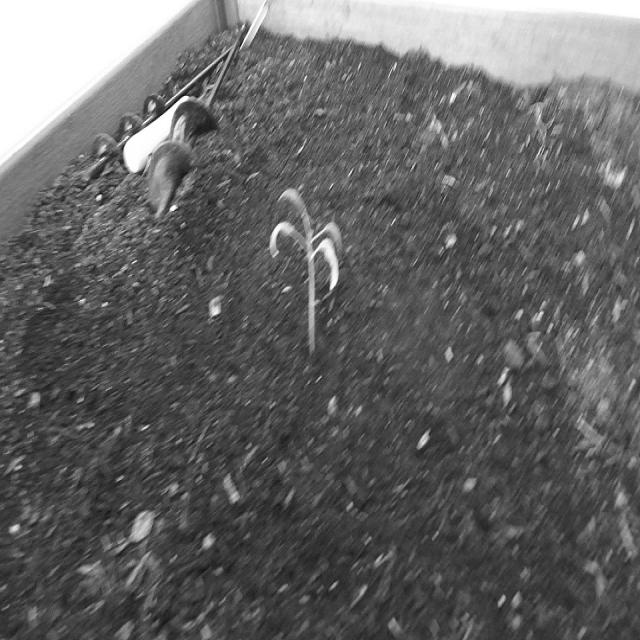Healthy: (269, 184, 345, 361)
